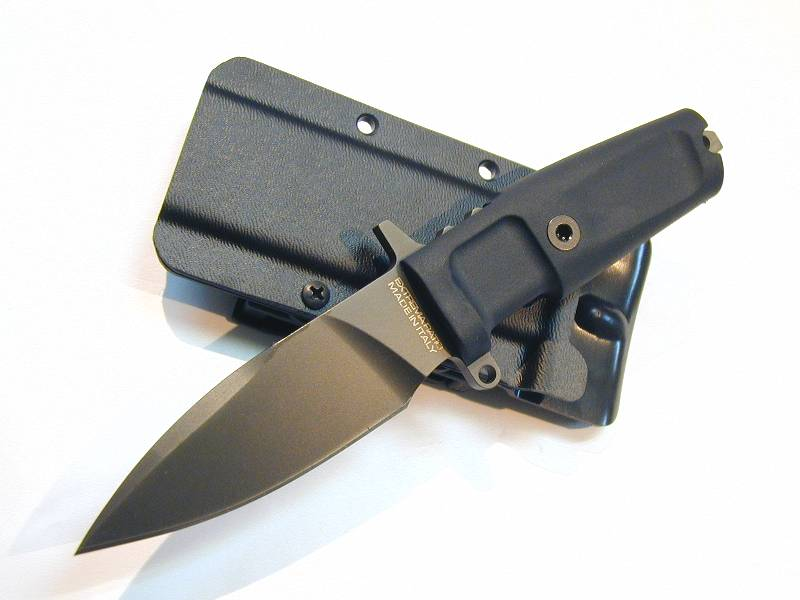knife: (68, 262, 448, 563)
